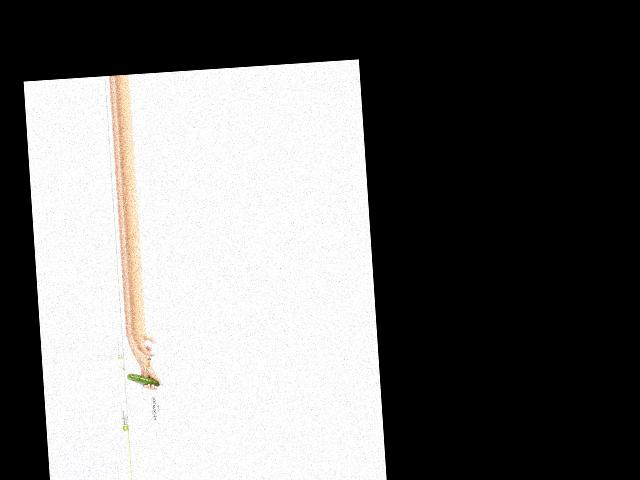cucumber: (126, 371, 159, 388)
